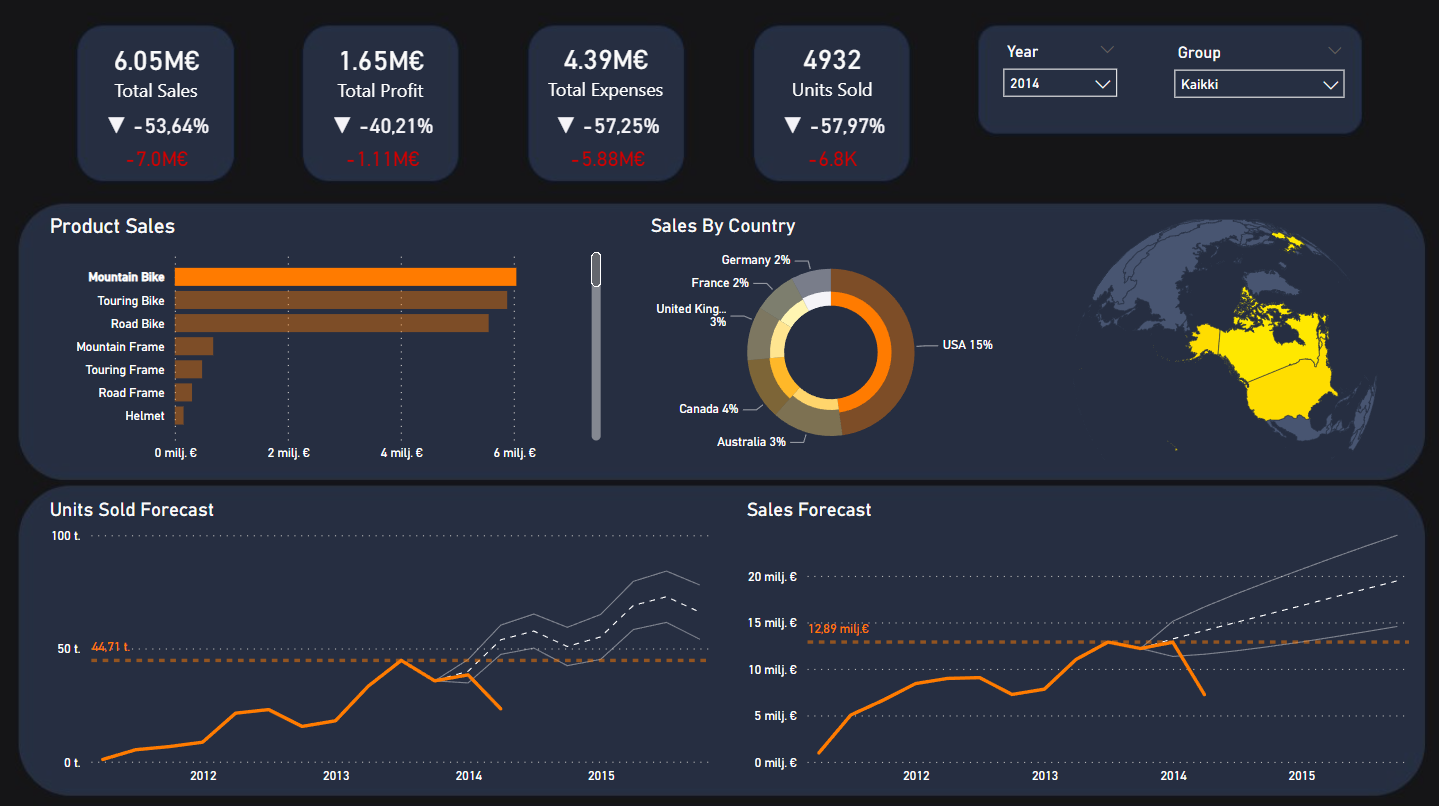

Layout of this report page (visuals, bound fields, positions):
{"tool":"powerbi","page":{"name":"Sivu 1","canvas":[1280,720],"ordinal":0},"visuals":[{"type":"clusteredBarChart","title":"Product Sales","fields":{"Category":["Production Product.ProductCategory","Production Product.Name"],"Y":["Sales SalesOrderDetail.Total Sales"]},"box":[41,192.8,498.6,225.8],"z":0},{"type":"slicer","fields":{"Values":["Sales SalesTerritory.Group"]},"box":[1033,36.1,171.4,58.6],"z":1000},{"type":"shapeMap","fields":{"Category":["Sales SalesTerritory.CountryNames"],"Value":["Sales SalesOrderDetail.Total Sales"]},"box":[889.3,192.8,368.7,225.8],"z":2000},{"type":"slicer","fields":{"Values":["Sales SalesOrderDetail.ModifiedDate.Vaihtelu.Päivämäärähierarkia.Vuosi"]},"box":[881.2,35.6,120.9,70.9],"z":3000},{"type":"advanceCardE03760C5AB684758B56AA29F9E6C257B","fields":{"mainMeasure":["Production ProductCostHistory.Total Expenses"]},"box":[469.3,28.6,139.7,70.3],"z":5000},{"type":"donutChart","title":"Sales By Country","fields":{"Category":["Sales SalesTerritory.CountryNames"],"Y":["Sales SalesOrderDetail.Total Sales"]},"box":[573.4,192.6,329.6,226.4],"z":6000},{"type":"advanceCardE03760C5AB684758B56AA29F9E6C257B","fields":{"mainMeasure":["Sales SalesOrderDetail.Total Profit"]},"box":[269.8,29.5,139.7,70.3],"z":7000},{"type":"advanceCardE03760C5AB684758B56AA29F9E6C257B","fields":{"mainMeasure":["Sales SalesOrderDetail.Units Sold"]},"box":[669.7,28.6,140.5,70.3],"z":8000},{"type":"advanceCardE03760C5AB684758B56AA29F9E6C257B","fields":{"mainMeasure":["Sales SalesOrderDetail.Percentage Difference"]},"box":[70.6,99.4,140,30.7],"z":9000},{"type":"advanceCardE03760C5AB684758B56AA29F9E6C257B","fields":{"mainMeasure":["Sales SalesOrderDetail.Total Profit Percentage Difference"]},"box":[270.3,99.4,140,30],"z":10000},{"type":"advanceCardE03760C5AB684758B56AA29F9E6C257B","fields":{"mainMeasure":["Production ProductCostHistory.Total Expenses Percentage Difference"]},"box":[470.1,99.4,140.1,30.7],"z":11000},{"type":"advanceCardE03760C5AB684758B56AA29F9E6C257B","fields":{"mainMeasure":["Sales SalesOrderDetail.Units Sold Percentage Difference"]},"box":[670,99.4,140.1,29.8],"z":12000},{"type":"advanceCardE03760C5AB684758B56AA29F9E6C257B","fields":{"mainMeasure":["Sales SalesOrderDetail.Total Sales"]},"box":[70.3,29.5,140.5,70.3],"z":13000},{"type":"advanceCardE03760C5AB684758B56AA29F9E6C257B","fields":{"mainMeasure":["Sales SalesOrderDetail.Sales Difference"]},"box":[90.6,128.6,100,30],"z":14000},{"type":"advanceCardE03760C5AB684758B56AA29F9E6C257B","fields":{"mainMeasure":["Sales SalesOrderDetail.Units Sold Difference"]},"box":[690.2,128.6,99.9,29.8],"z":15000},{"type":"advanceCardE03760C5AB684758B56AA29F9E6C257B","fields":{"mainMeasure":["Sales SalesOrderDetail.Expense Difference"]},"box":[490.3,128.6,99.9,30],"z":16000},{"type":"advanceCardE03760C5AB684758B56AA29F9E6C257B","fields":{"mainMeasure":["Sales SalesOrderDetail.Profit Difference"]},"box":[290.5,128.6,99.9,30.7],"z":17000},{"type":"lineChart","title":"Units Sold Forecast","fields":{"Category":["Sales SalesOrderDetail.ModifiedDate.Vaihtelu.Päivämäärähierarkia.Vuosi","Sales SalesOrderDetail.ModifiedDate.Vaihtelu.Päivämäärähierarkia.Vuosineljännes"],"Y":["Sales SalesOrderDetail.Units Sold"]},"box":[41,444.7,599.5,259.8],"z":18000},{"type":"lineChart","title":"Sales Forecast","fields":{"Category":["Sales SalesOrderDetail.ModifiedDate.Vaihtelu.Päivämäärähierarkia.Vuosi","Sales SalesOrderDetail.ModifiedDate.Vaihtelu.Päivämäärähierarkia.Vuosineljännes"],"Y":["Sales SalesOrderDetail.Total Sales"]},"box":[658.5,444.7,600,260],"z":19000}]}

Visuals, with their boxes in screenshot pixels (x1, y1, x2, y2), scaled from the page's 1280x720 canvas onto the 1439x806 screenshot:
"Product Sales" clusteredBarChart: region(46, 216, 607, 469)
slicer - Sales SalesTerritory.Group: region(1161, 40, 1354, 106)
shapeMap - Sales SalesTerritory.CountryNames x Sales SalesOrderDetail.Total Sales: region(1000, 216, 1414, 469)
slicer - Sales SalesOrderDetail.ModifiedDate.Vaihtelu.Päivämäärähierarkia.Vuosi: region(991, 40, 1127, 119)
advanceCardE03760C5AB684758B56AA29F9E6C257B - Production ProductCostHistory.Total Expenses: region(528, 32, 685, 111)
"Sales By Country" donutChart: region(645, 216, 1015, 469)
advanceCardE03760C5AB684758B56AA29F9E6C257B - Sales SalesOrderDetail.Total Profit: region(303, 33, 460, 112)
advanceCardE03760C5AB684758B56AA29F9E6C257B - Sales SalesOrderDetail.Units Sold: region(753, 32, 911, 111)
advanceCardE03760C5AB684758B56AA29F9E6C257B - Sales SalesOrderDetail.Percentage Difference: region(79, 111, 237, 146)
advanceCardE03760C5AB684758B56AA29F9E6C257B - Sales SalesOrderDetail.Total Profit Percentage Difference: region(304, 111, 461, 145)
advanceCardE03760C5AB684758B56AA29F9E6C257B - Production ProductCostHistory.Total Expenses Percentage Difference: region(528, 111, 686, 146)
advanceCardE03760C5AB684758B56AA29F9E6C257B - Sales SalesOrderDetail.Units Sold Percentage Difference: region(753, 111, 911, 145)
advanceCardE03760C5AB684758B56AA29F9E6C257B - Sales SalesOrderDetail.Total Sales: region(79, 33, 237, 112)
advanceCardE03760C5AB684758B56AA29F9E6C257B - Sales SalesOrderDetail.Sales Difference: region(102, 144, 214, 178)
advanceCardE03760C5AB684758B56AA29F9E6C257B - Sales SalesOrderDetail.Units Sold Difference: region(776, 144, 888, 177)
advanceCardE03760C5AB684758B56AA29F9E6C257B - Sales SalesOrderDetail.Expense Difference: region(551, 144, 664, 178)
advanceCardE03760C5AB684758B56AA29F9E6C257B - Sales SalesOrderDetail.Profit Difference: region(327, 144, 439, 178)
"Units Sold Forecast" lineChart: region(46, 498, 720, 789)
"Sales Forecast" lineChart: region(740, 498, 1415, 789)
